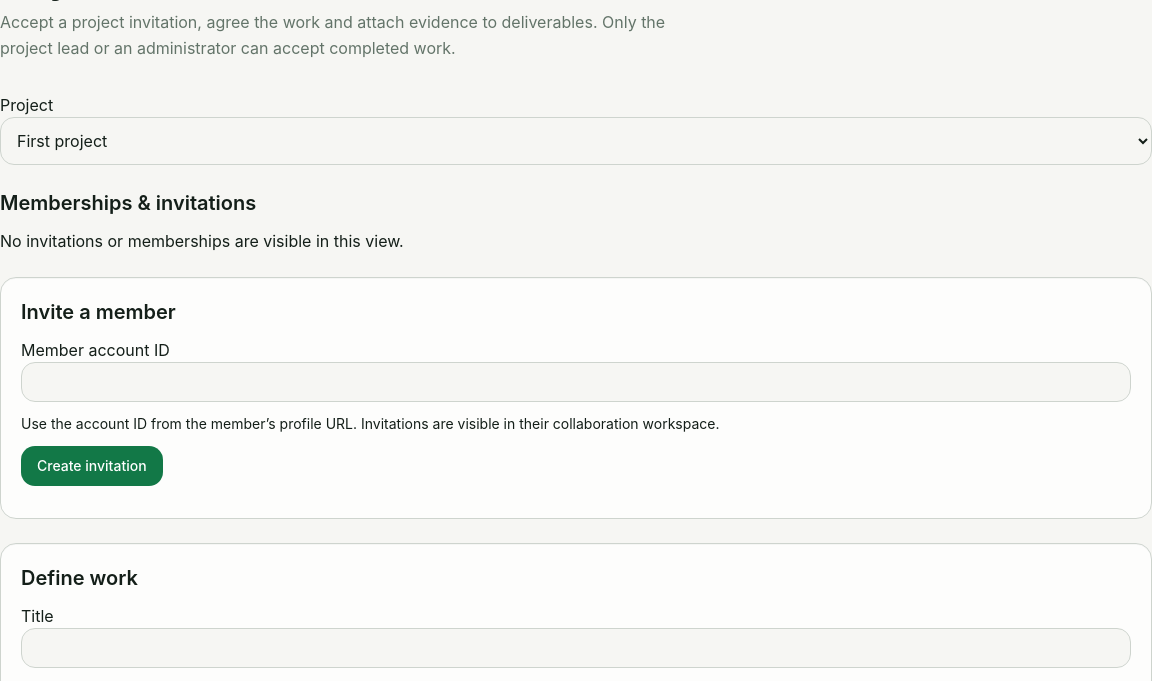
collaboration task creation › preserves newer title and description edits while an earlier creation finishes
This screenshot has width=1152, height=681.
Type "Audit the baseline" into the field labelled "Title" at (576, 648), box x1=21 y1=628 x2=1131 y2=668
(page scrolled)
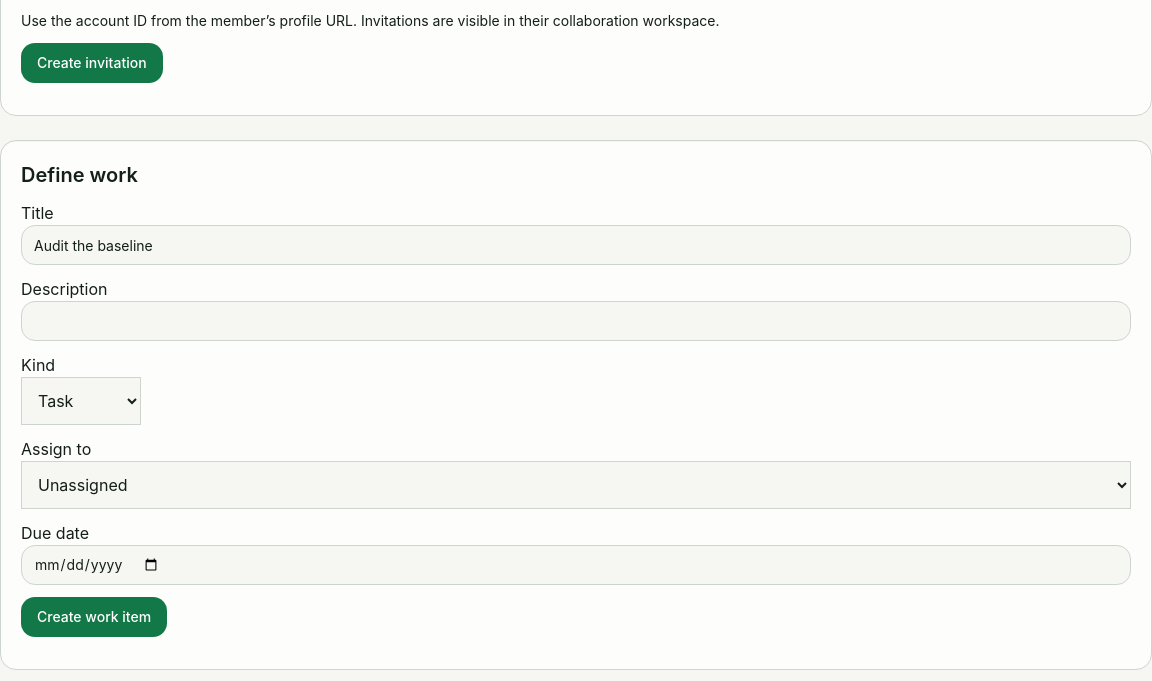
Type "Check timestamps and a frozen split" into the field labelled "Description" at (576, 321), box x1=21 y1=301 x2=1131 y2=341
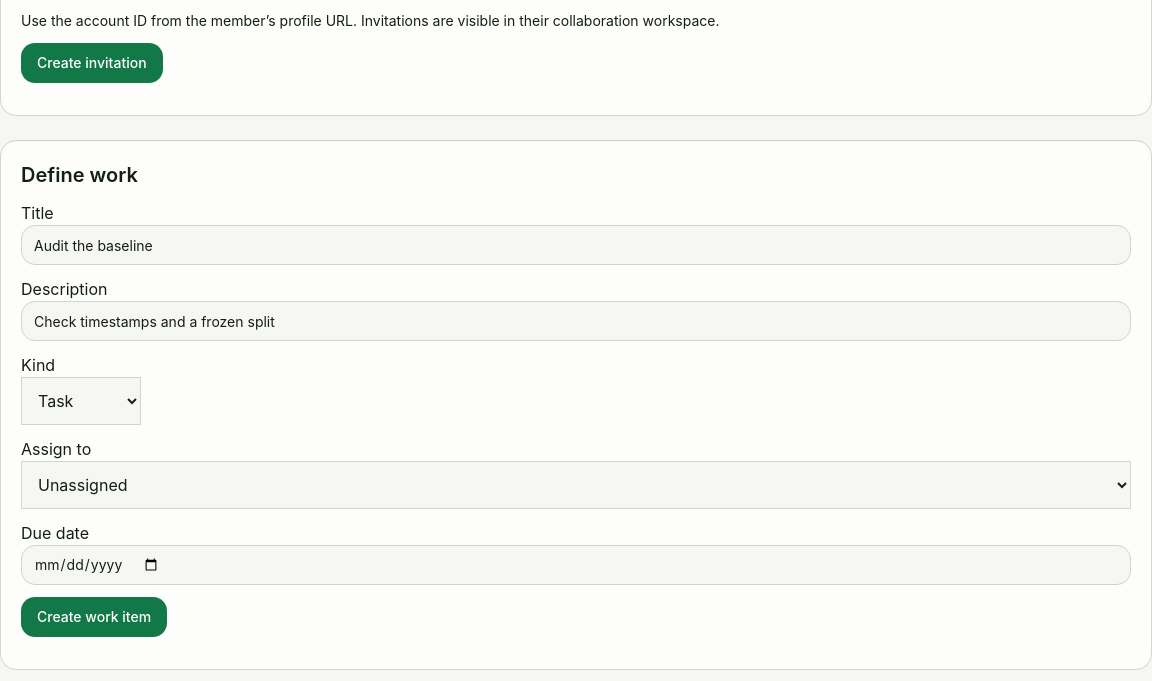
Click the button "Create work item" at (94, 617), box x1=21 y1=597 x2=167 y2=637
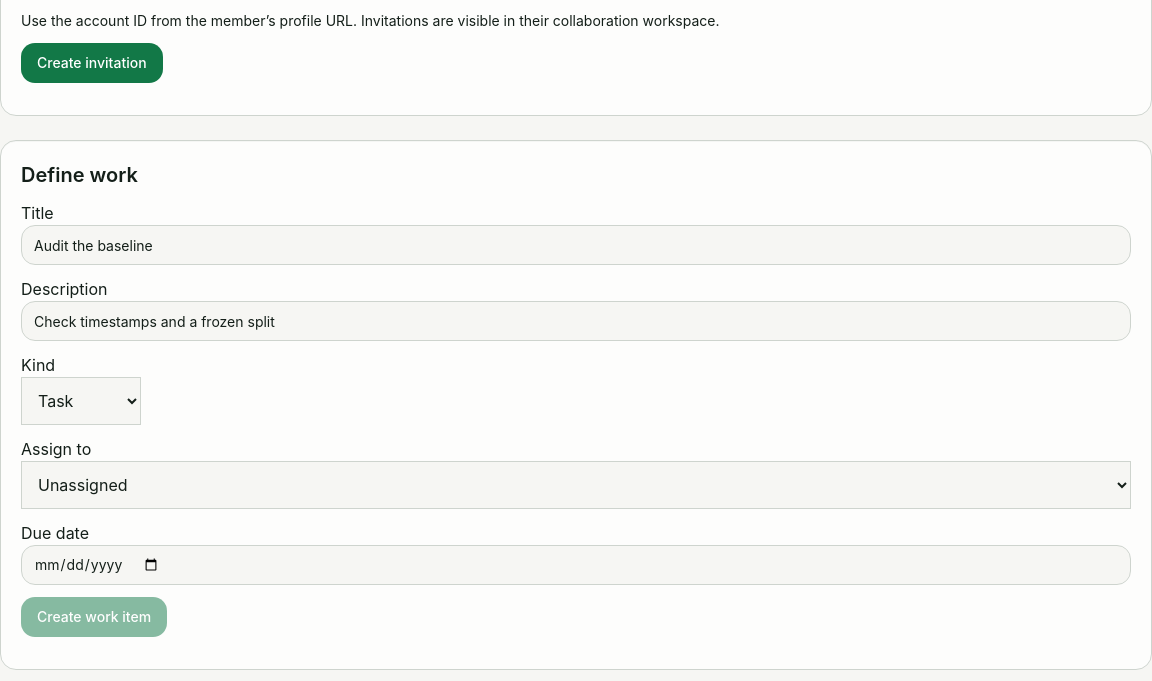
Replace the text in the field labelled "Title" with "Check the second signal" at (576, 245), box x1=21 y1=225 x2=1131 y2=265
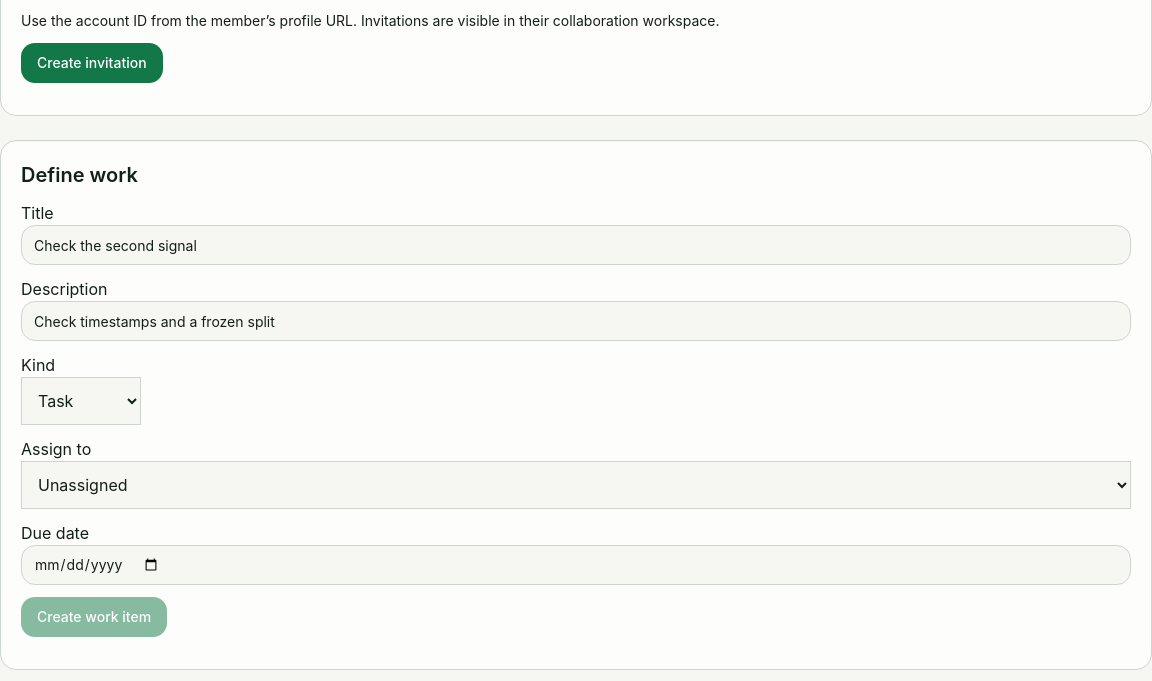
Replace the text in the field labelled "Description" with "These are later unsent edits" at (576, 321), box x1=21 y1=301 x2=1131 y2=341
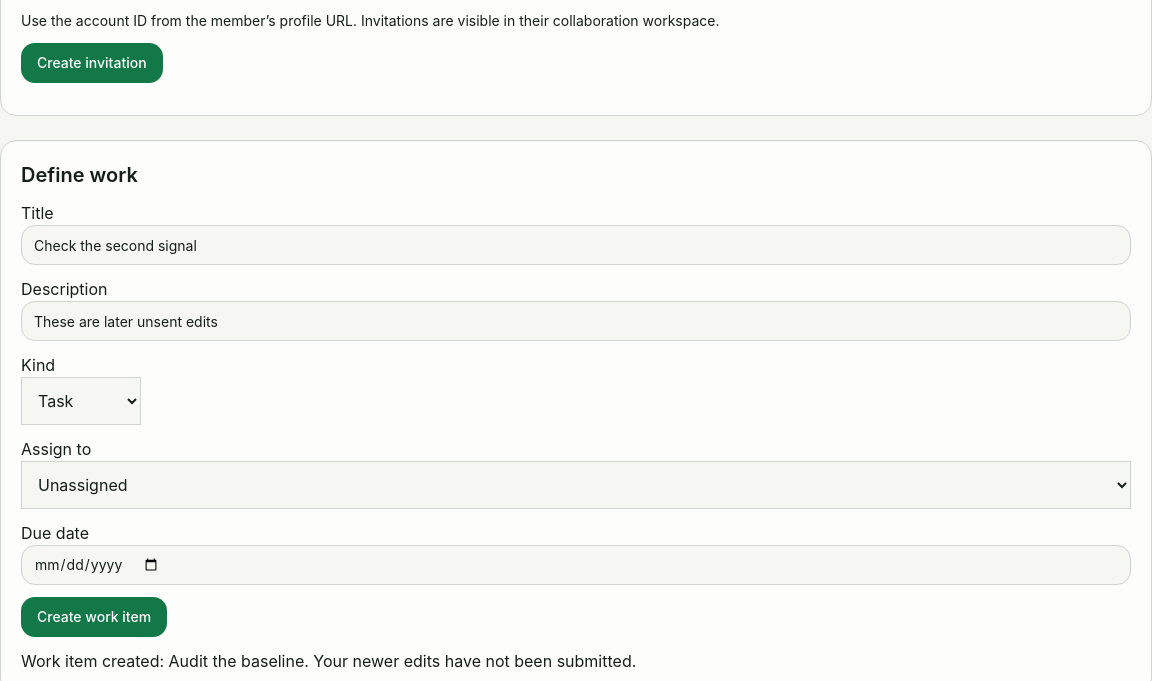
Expected: the text "Work item created" is shown, x1=21 y1=651 x2=636 y2=671
